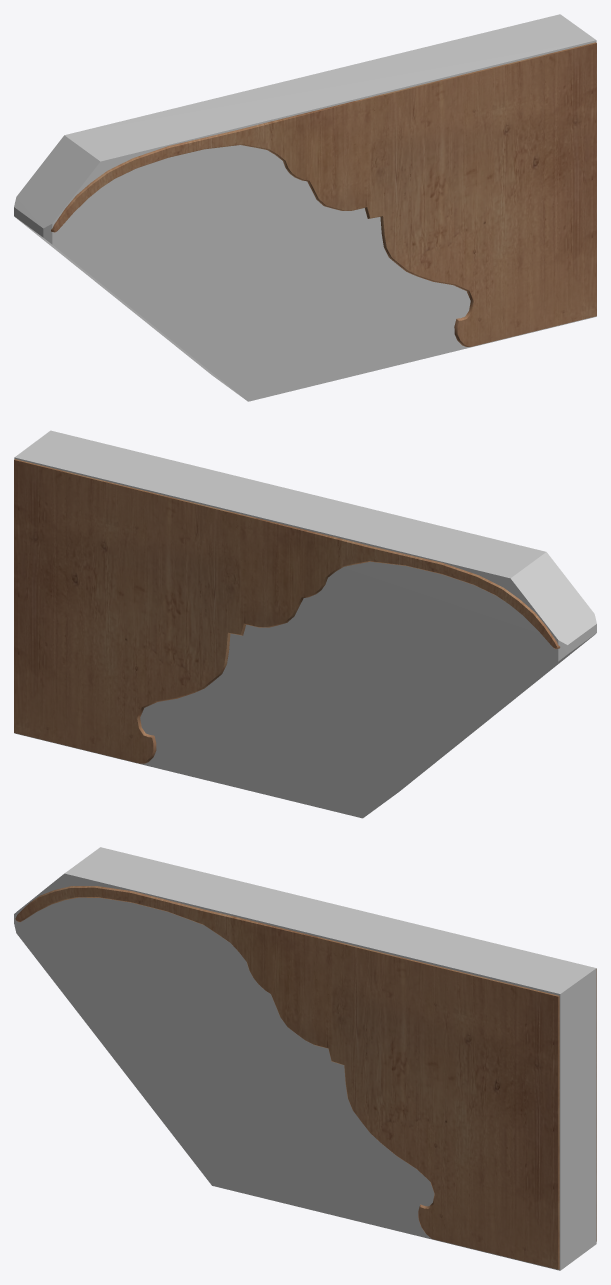
The model's file is SM_HBJ_WoodornamentC.fbx.
3 renders of one model, top to bottom at view 1: azimuth 30°, elevation 25°; view 2: azimuth 150°, elevation 25°; view 3: azimuth 330°, elevation 25°, orthographic.
Visible parts, largest first — view 1: SM_HBJ_WoodornamentC_ConvexHulls, SM_HBJ_WoodornamentC; view 2: SM_HBJ_WoodornamentC_ConvexHulls, SM_HBJ_WoodornamentC; view 3: SM_HBJ_WoodornamentC_ConvexHulls, SM_HBJ_WoodornamentC.
Boxes of the visible parts, <box> form: SM_HBJ_WoodornamentC_ConvexHulls: <box>14,14,596,401</box>; SM_HBJ_WoodornamentC: <box>51,42,596,346</box>; SM_HBJ_WoodornamentC_ConvexHulls: <box>14,430,596,818</box>; SM_HBJ_WoodornamentC: <box>14,459,560,763</box>; SM_HBJ_WoodornamentC_ConvexHulls: <box>14,847,596,1270</box>; SM_HBJ_WoodornamentC: <box>15,886,596,1269</box>.
Bounding box in the file's own units: 75.24 × 9.14 × 36.19.
2 materials, 1 textured.
